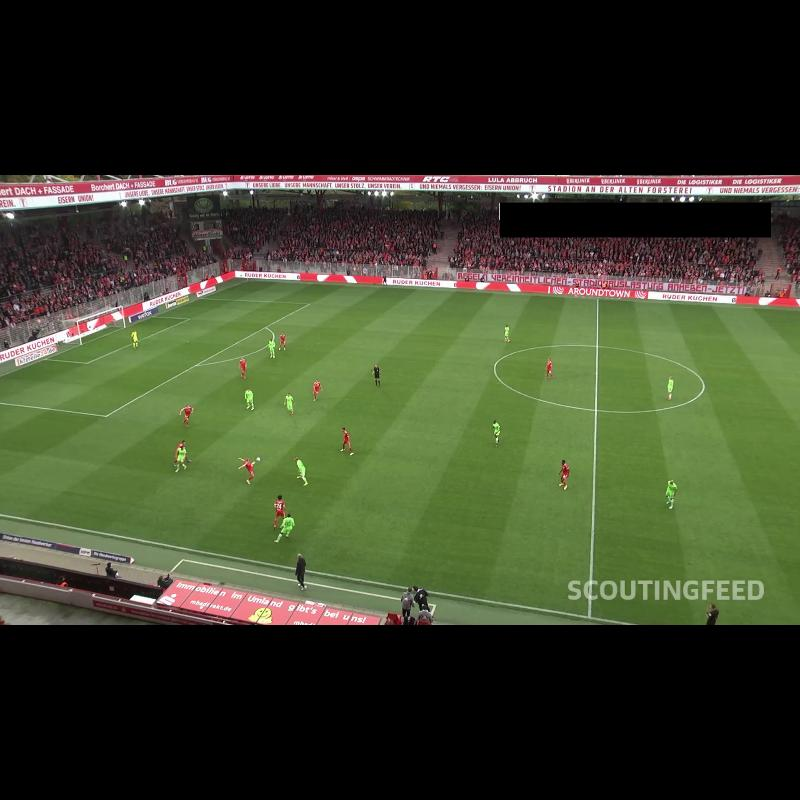cross_recipient_zone: (0, 298, 309, 416)
crossing_player_zone: (0, 402, 228, 532), (203, 281, 416, 309)
pitch: (0, 281, 800, 625)
